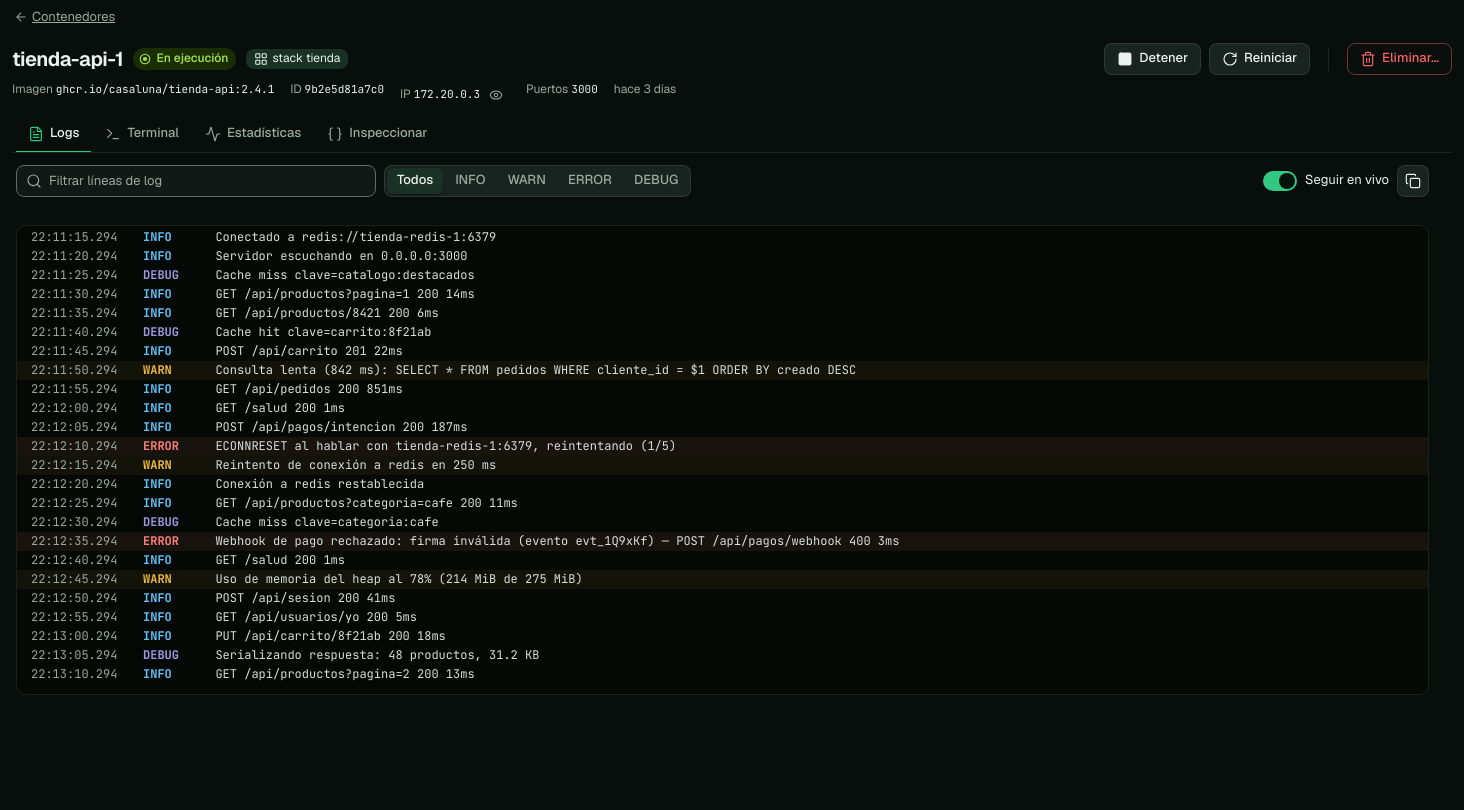
ContainerDetailPage › logs: el nivel se calcula en el frontend y el filtro por nivel/texto funciona
(page scrolled)
Expected: the text "Servidor escuchando en 0.0.0.0:3000" is shown, 215,248 -> 467,264
Click the button "ERROR" at (590, 181), box 558,168 -> 622,194
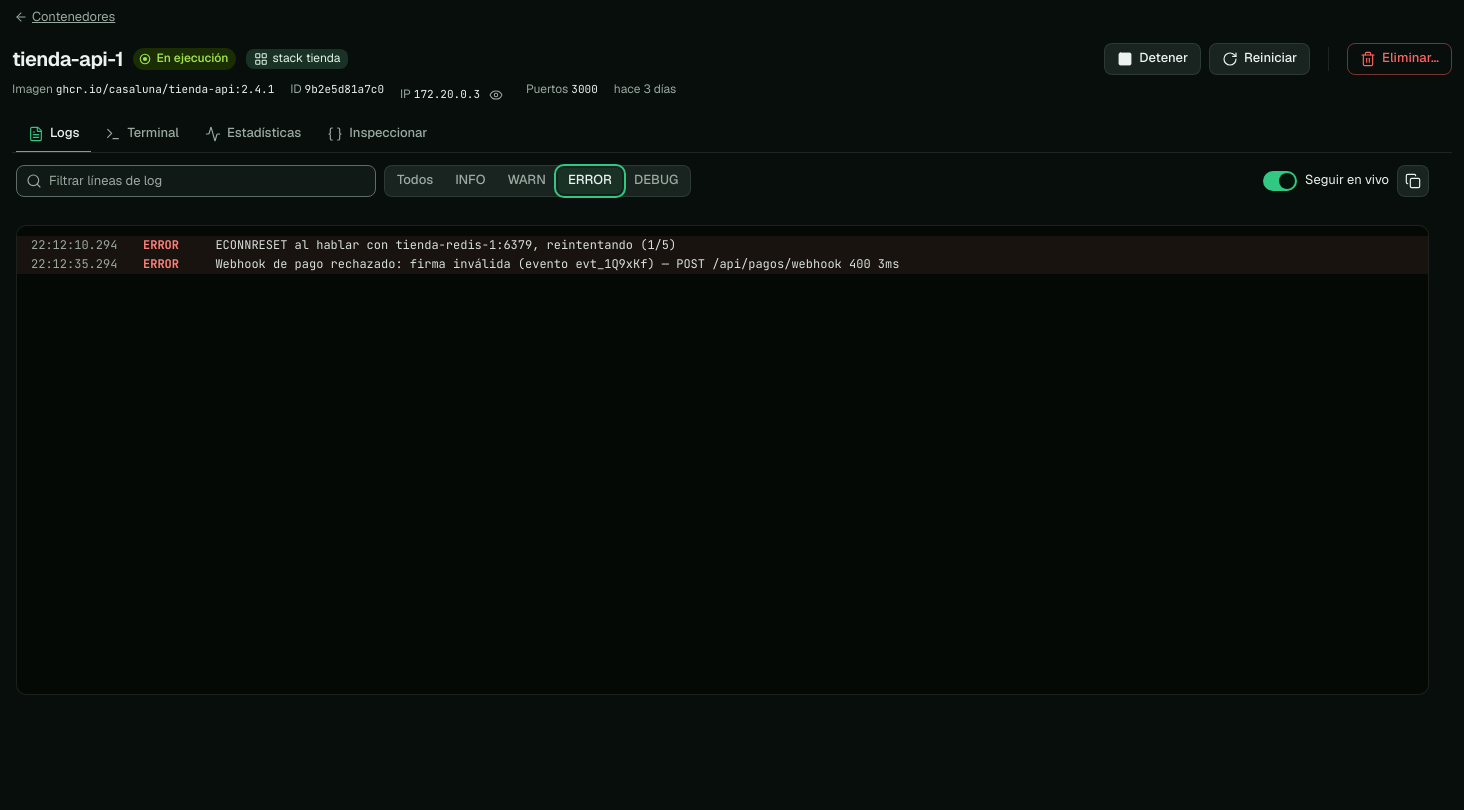
Click the button "Todos" at (415, 181), box 387,168 -> 443,194
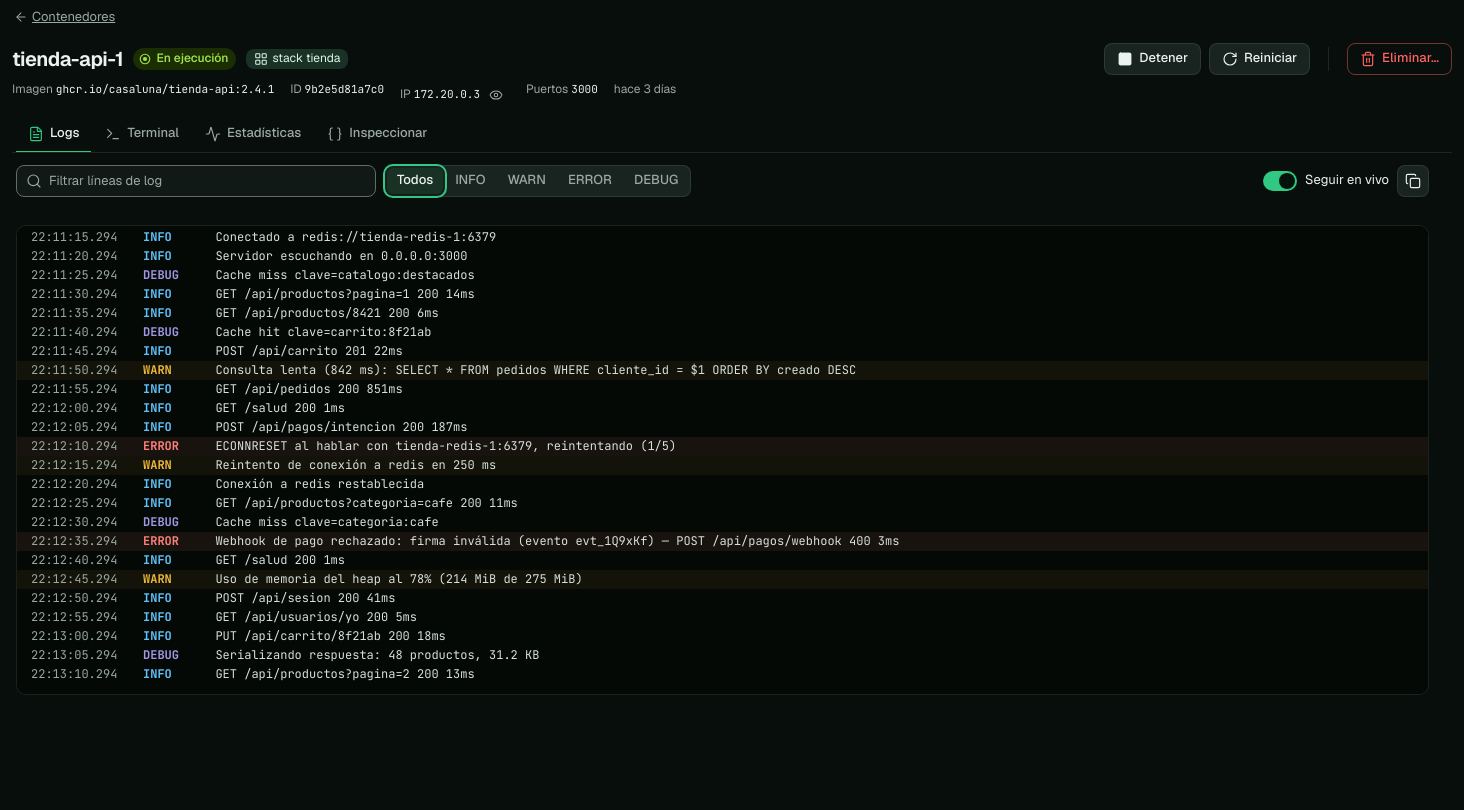
Type "redis" into the search field labelled "Filtrar líneas de log" at (196, 181), box 16,165 -> 376,197
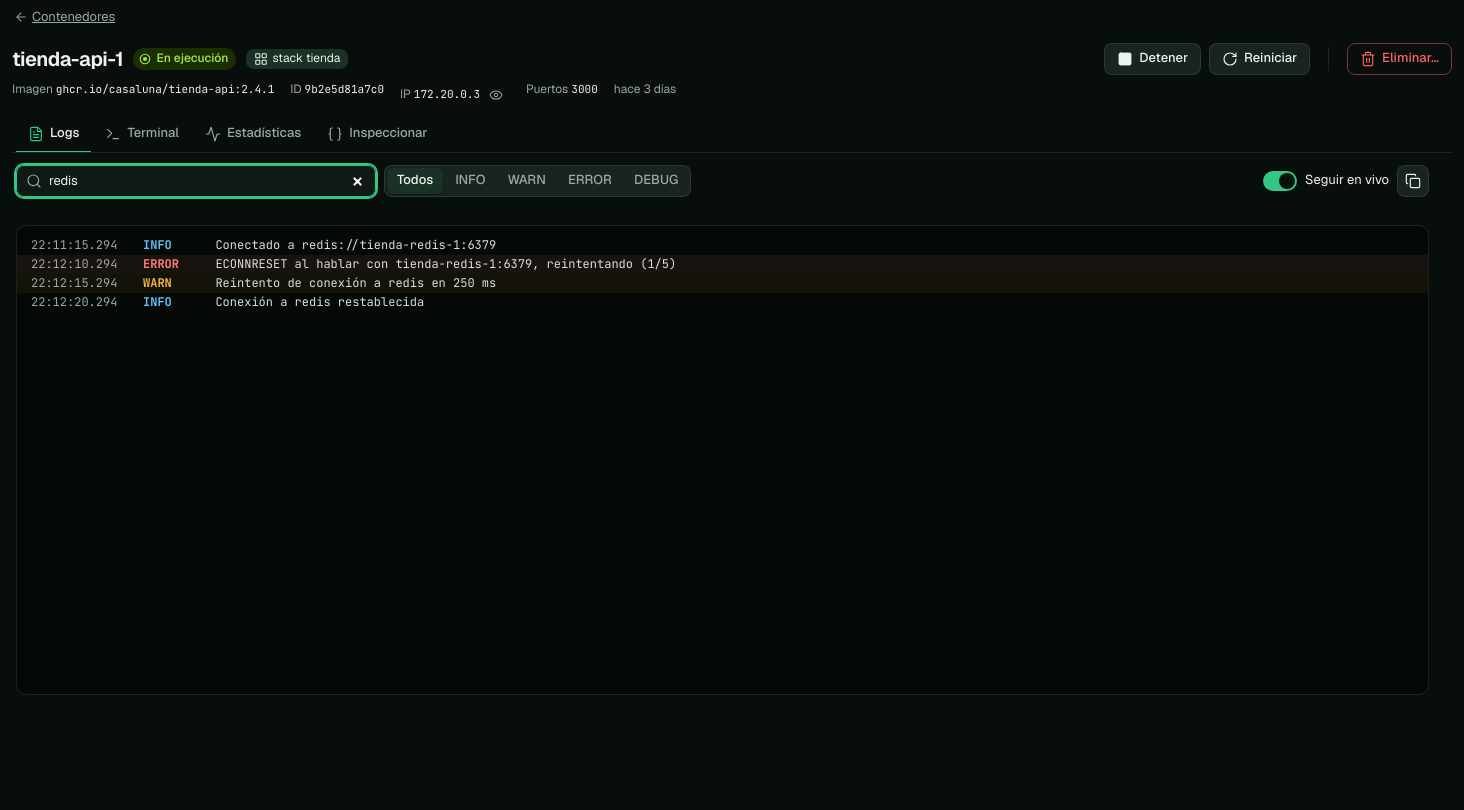
Replace the text in the search field named "Filtrar líneas de log" with "zzz-no-existe" at (196, 181), box 16,165 -> 376,197
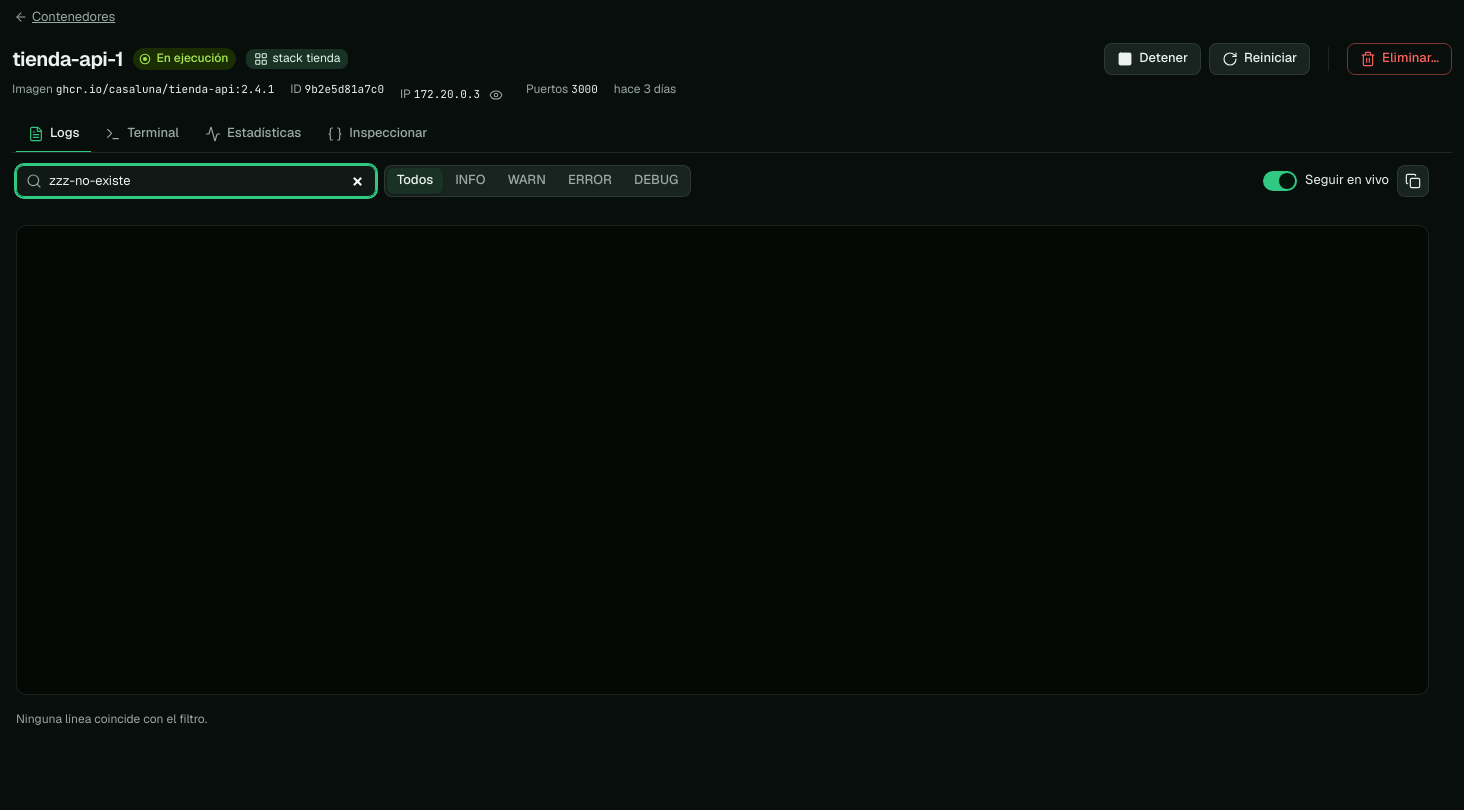
Now the text "Ninguna línea coincide con el filtro." is shown, box 16,711 -> 207,727
